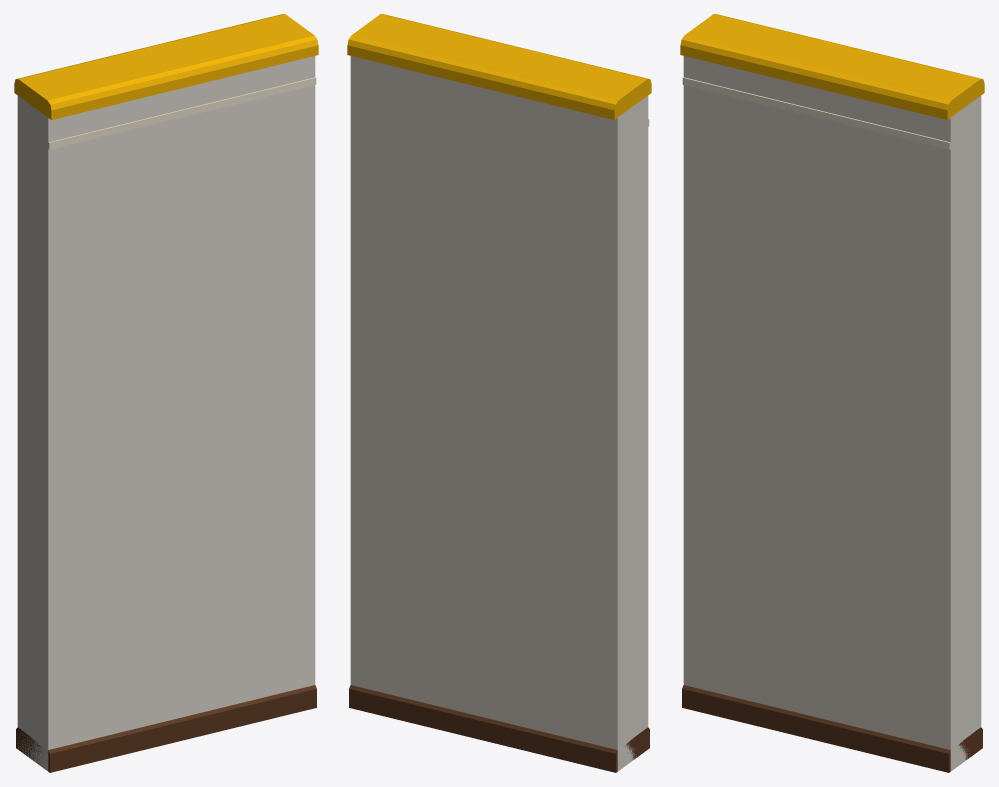
File: wand_voll.glb
3 views of the same model, side by side, from view 1: azimuth 30°, elevation 25°; view 2: azimuth 150°, elevation 25°; view 3: azimuth 330°, elevation 25° (orthographic).
Parts seen in each view (by area): view 1: wand_voll; view 2: wand_voll; view 3: wand_voll.
Part boxes in pixels (left/top/right/bottom): wand_voll: left=14, top=14, right=318, bottom=772; wand_voll: left=347, top=14, right=651, bottom=772; wand_voll: left=680, top=14, right=984, bottom=772.
Bounding box in the file's own units: 1 × 2.4 × 0.24.
